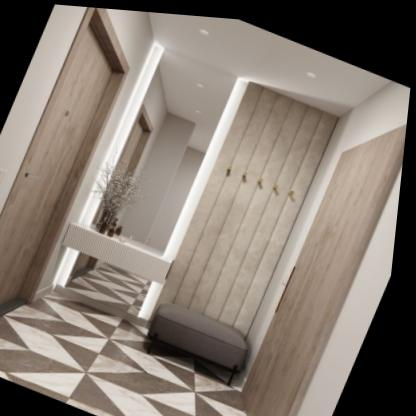Ceramic floor: (0, 270, 255, 416)
